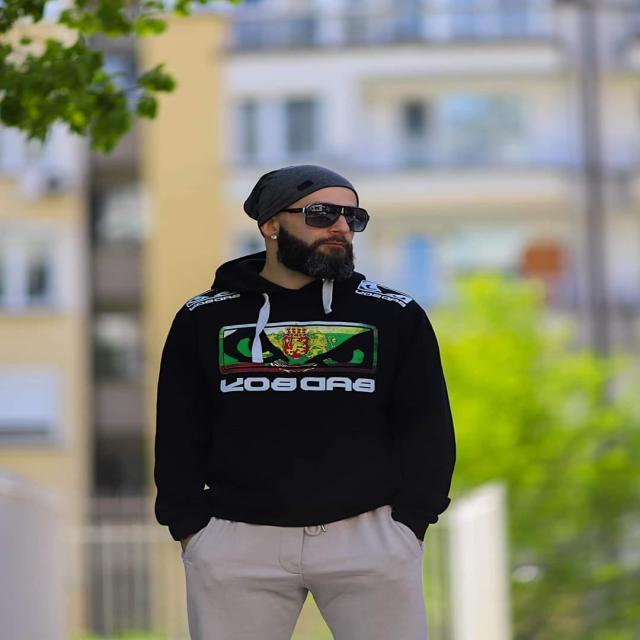sweater: (150, 249, 461, 551)
trousers: (183, 501, 432, 640)
